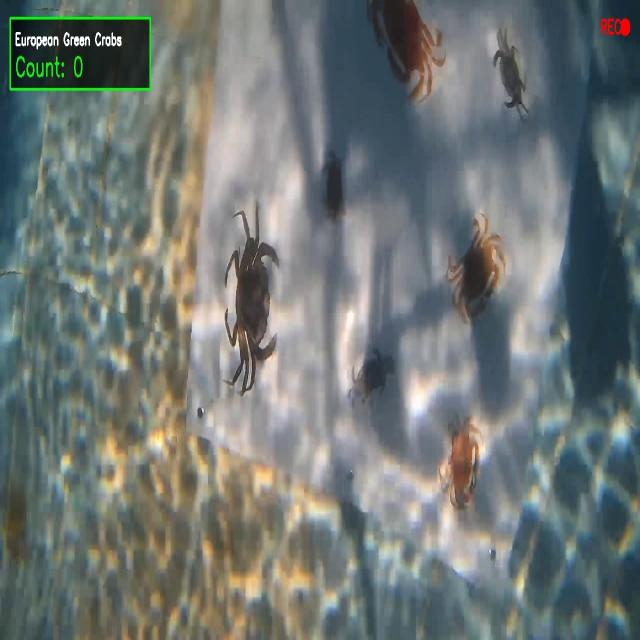European_Green_Crab: (216, 197, 280, 416), (482, 19, 539, 127), (341, 336, 405, 421)
